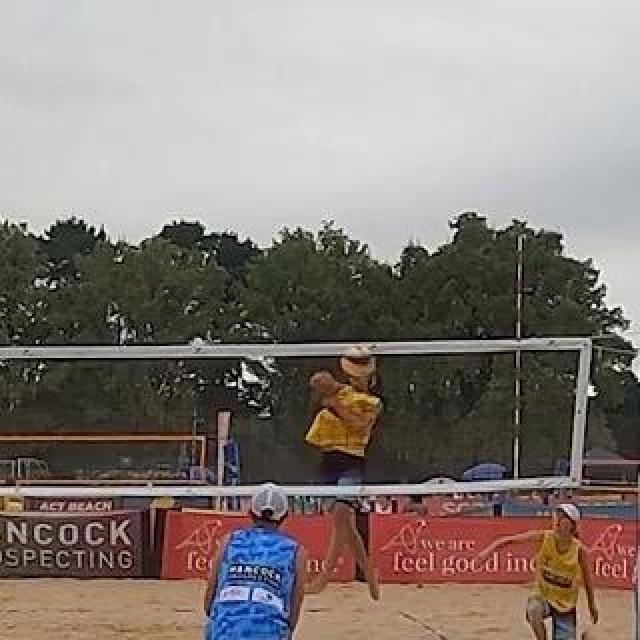volleyball: (340, 346, 374, 378)
